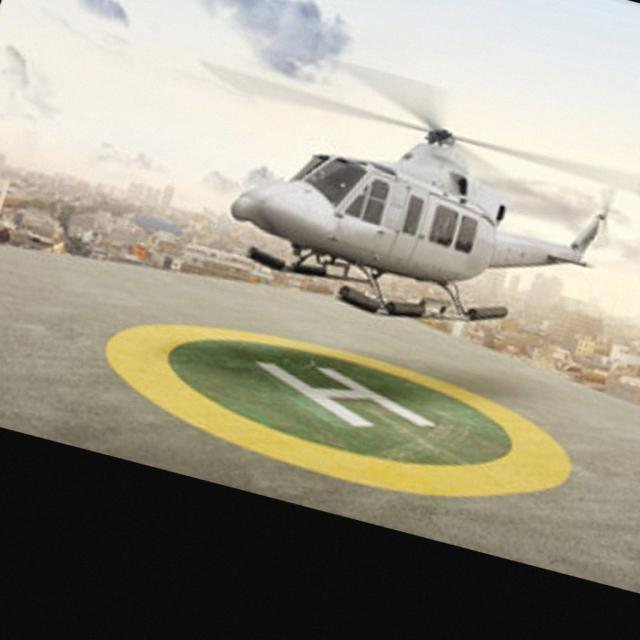helipad: (98, 316, 577, 501)
